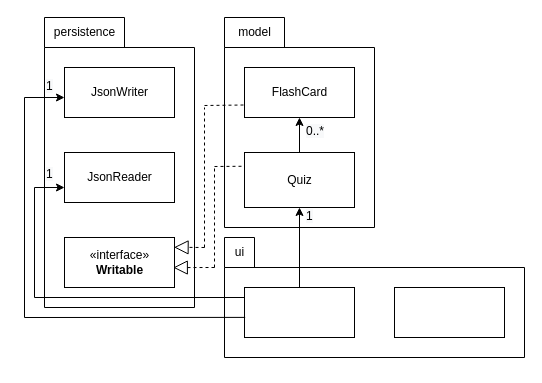
The diagram is 542 pixels wide and 383 high, and some of its shapes have lost their labels. The shapes that lost their labels are listed below. From the top down, each one's box as (x1, y1, x2, y2) in pixels, then its label:
(244, 286, 354, 338): QuizAppGUI
(394, 286, 504, 338): Main
